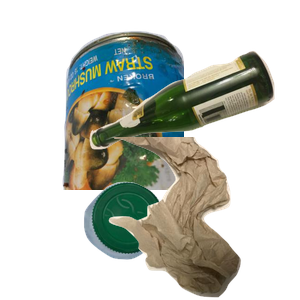glass: (87, 48, 300, 190)
metal: (60, 28, 300, 208)
plastic: (81, 179, 239, 300)
trash: (103, 137, 300, 300)
